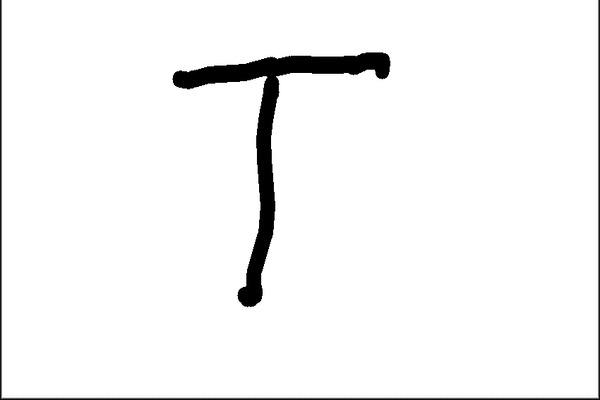T: (164, 49, 393, 309)
